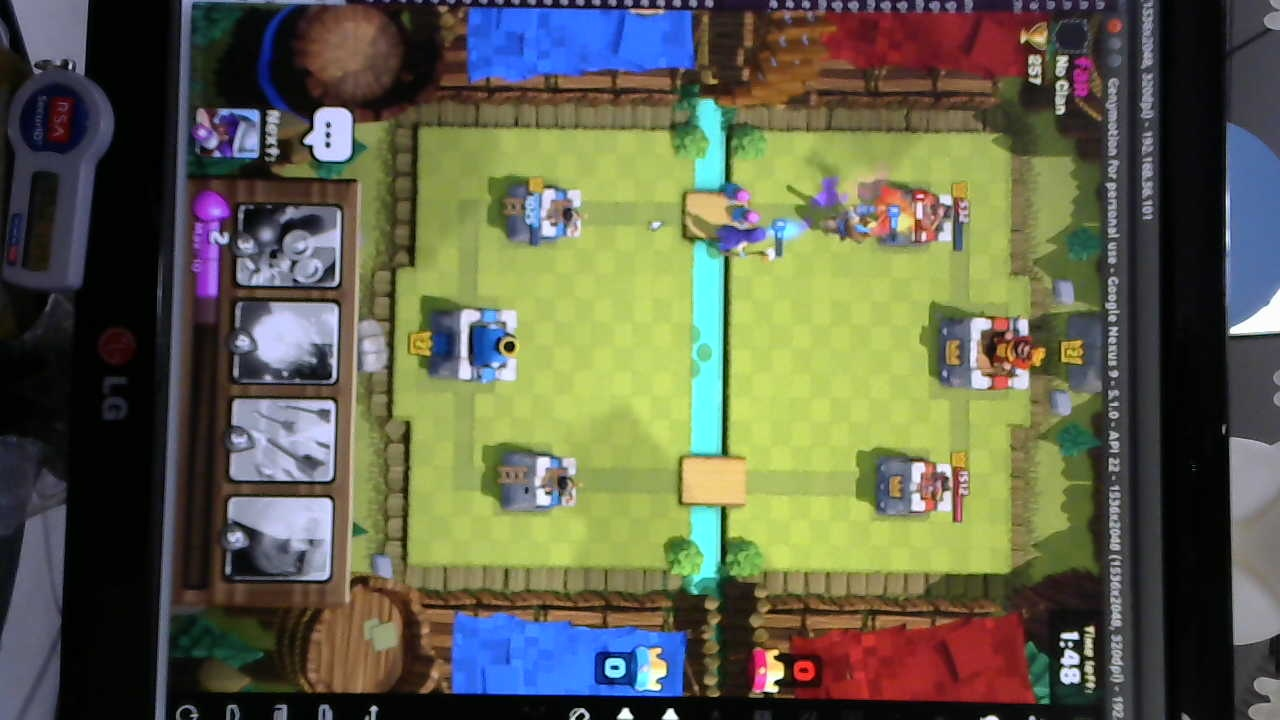archers: (717, 177, 763, 227)
arena: (493, 447, 581, 514), (509, 184, 586, 248)
earena: (875, 454, 960, 521), (876, 187, 960, 249)
eking: (936, 310, 1042, 396)
king: (435, 303, 524, 385)
prince: (820, 203, 886, 239)
witch: (705, 212, 769, 263)
